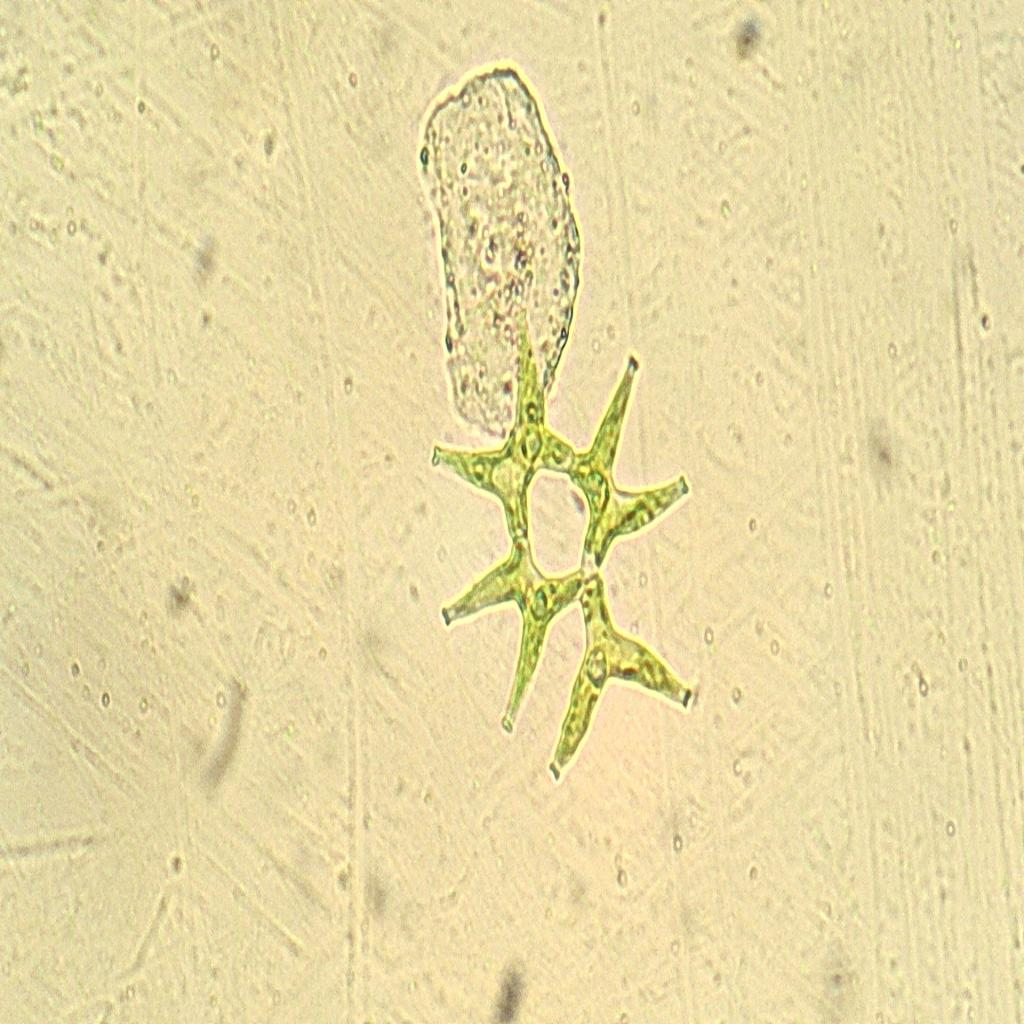Pediastrum_75FI: (427, 281, 705, 805)
